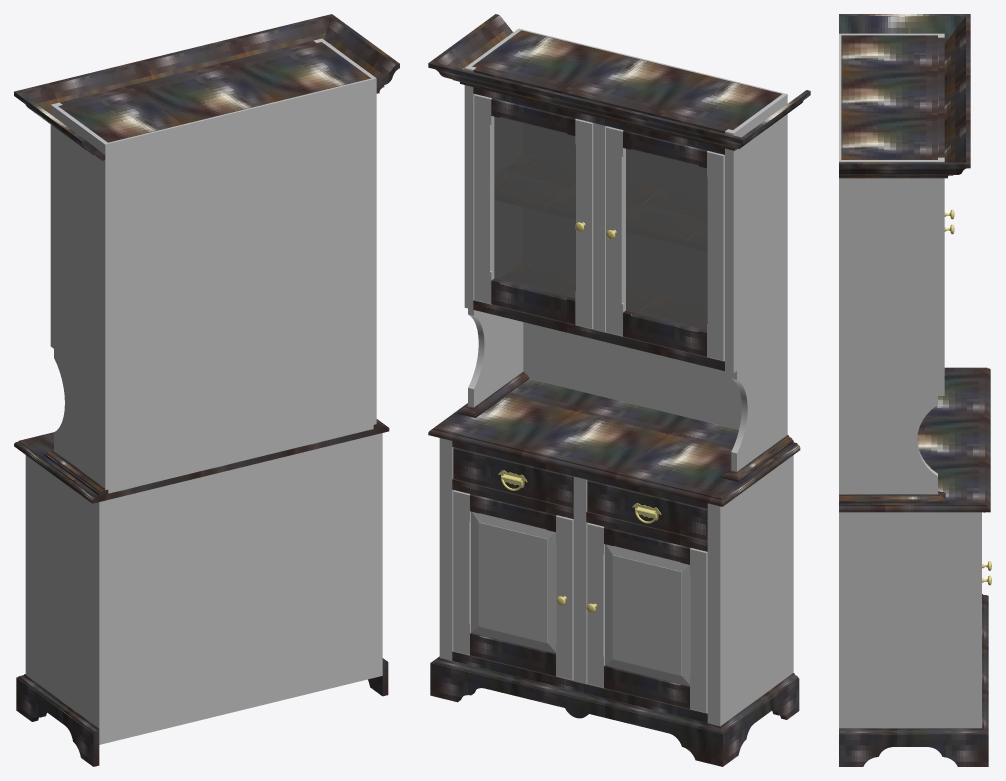
3 renders of one model, left to right at view 1: azimuth 30°, elevation 25°; view 2: azimuth 150°, elevation 25°; view 3: azimuth 270°, elevation 25°, orthographic. The views are drawn at different scales.
Parts seen in each view (by area): view 1: mesh127_mesh127-geometry, mesh121_mesh121-geometry, mesh145_mesh145-geometry, mesh89_mesh89-geometry, mesh151_mesh151-geometry, mesh153_mesh153-geometry, mesh119_mesh119-geometry, mesh111_mesh111-geometry, mesh133_mesh133-geometry, mesh131_mesh131-geometry, mesh85_mesh85-geometry, mesh139_mesh139-geometry (+2 smaller); view 2: mesh119_mesh119-geometry, mesh145_mesh145-geometry, mesh89_mesh89-geometry, mesh61_mesh61-geometry, mesh47_mesh47-geometry, mesh151_mesh151-geometry, mesh127_mesh127-geometry, mesh17_mesh17-geometry, mesh30_mesh30-geometry, mesh52_mesh52-geometry, mesh109_mesh109-geometry, mesh55_mesh55-geometry (+27 smaller); view 3: mesh133_mesh133-geometry, mesh85_mesh85-geometry, mesh151_mesh151-geometry, mesh119_mesh119-geometry, mesh153_mesh153-geometry, mesh113_mesh113-geometry, mesh141_mesh141-geometry, mesh97_mesh97-geometry, mesh125_mesh125-geometry, mesh109_mesh109-geometry, mesh131_mesh131-geometry, mesh127_mesh127-geometry (+1 smaller).
Boxes of the visible parts, x1,y1,x2,y2 form: mesh127_mesh127-geometry: [107, 78, 373, 493]; mesh121_mesh121-geometry: [102, 433, 379, 743]; mesh145_mesh145-geometry: [54, 106, 108, 490]; mesh89_mesh89-geometry: [29, 457, 102, 744]; mesh151_mesh151-geometry: [58, 42, 371, 142]; mesh153_mesh153-geometry: [14, 14, 399, 160]; mesh119_mesh119-geometry: [14, 419, 389, 503]; mesh111_mesh111-geometry: [16, 674, 99, 766]; mesh133_mesh133-geometry: [322, 41, 376, 424]; mesh131_mesh131-geometry: [60, 40, 315, 104]; mesh85_mesh85-geometry: [379, 433, 382, 676]; mesh139_mesh139-geometry: [50, 102, 62, 348]; mesh119_mesh119-geometry: [428, 379, 800, 506]; mesh145_mesh145-geometry: [731, 93, 787, 471]; mesh89_mesh89-geometry: [723, 455, 793, 723]; mesh61_mesh61-geometry: [494, 116, 575, 297]; mesh47_mesh47-geometry: [626, 148, 707, 330]; mesh151_mesh151-geometry: [472, 30, 781, 129]; mesh127_mesh127-geometry: [521, 29, 784, 429]; mesh17_mesh17-geometry: [471, 511, 556, 653]; mesh30_mesh30-geometry: [605, 544, 690, 685]; mesh52_mesh52-geometry: [474, 94, 625, 336]; mesh109_mesh109-geometry: [430, 658, 722, 766]; mesh55_mesh55-geometry: [575, 118, 724, 361]; mesh133_mesh133-geometry: [839, 160, 937, 494]; mesh85_mesh85-geometry: [839, 512, 975, 728]; mesh151_mesh151-geometry: [841, 35, 937, 159]; mesh119_mesh119-geometry: [839, 367, 990, 512]; mesh153_mesh153-geometry: [839, 14, 970, 178]; mesh113_mesh113-geometry: [839, 728, 988, 766]; mesh141_mesh141-geometry: [938, 157, 944, 395]; mesh97_mesh97-geometry: [975, 512, 981, 728]; mesh125_mesh125-geometry: [839, 491, 945, 503]; mesh109_mesh109-geometry: [982, 594, 988, 734]; mesh131_mesh131-geometry: [938, 37, 944, 157]; mesh127_mesh127-geometry: [839, 35, 841, 160].
Size of the model in its own units: 0.4588 by 0.8664 by 0.1972.
